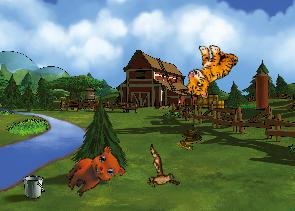bear: (60, 139, 130, 208)
eagle: (130, 143, 189, 200)
tiger: (183, 40, 239, 103)
